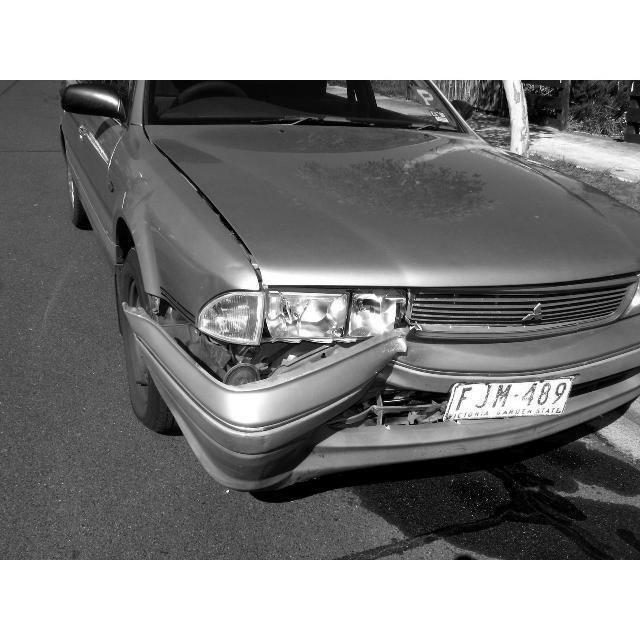fender-dent: (99, 190, 242, 313)
front-bumper-dent: (165, 313, 640, 493)
